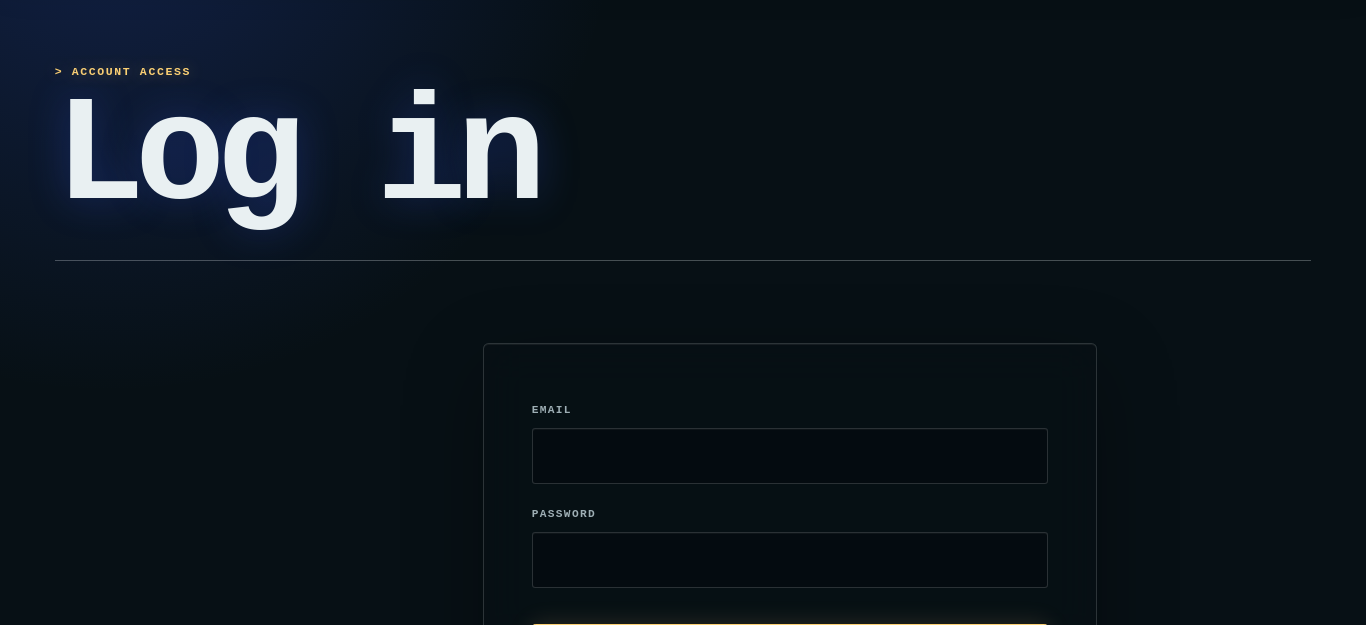
Test: App user and session state management › shows invalid credentials without treating a login 401 as session expiration
Type "john.doe@example.com" into the field labelled "Email" at (790, 456), box x1=532 y1=428 x2=1048 y2=484
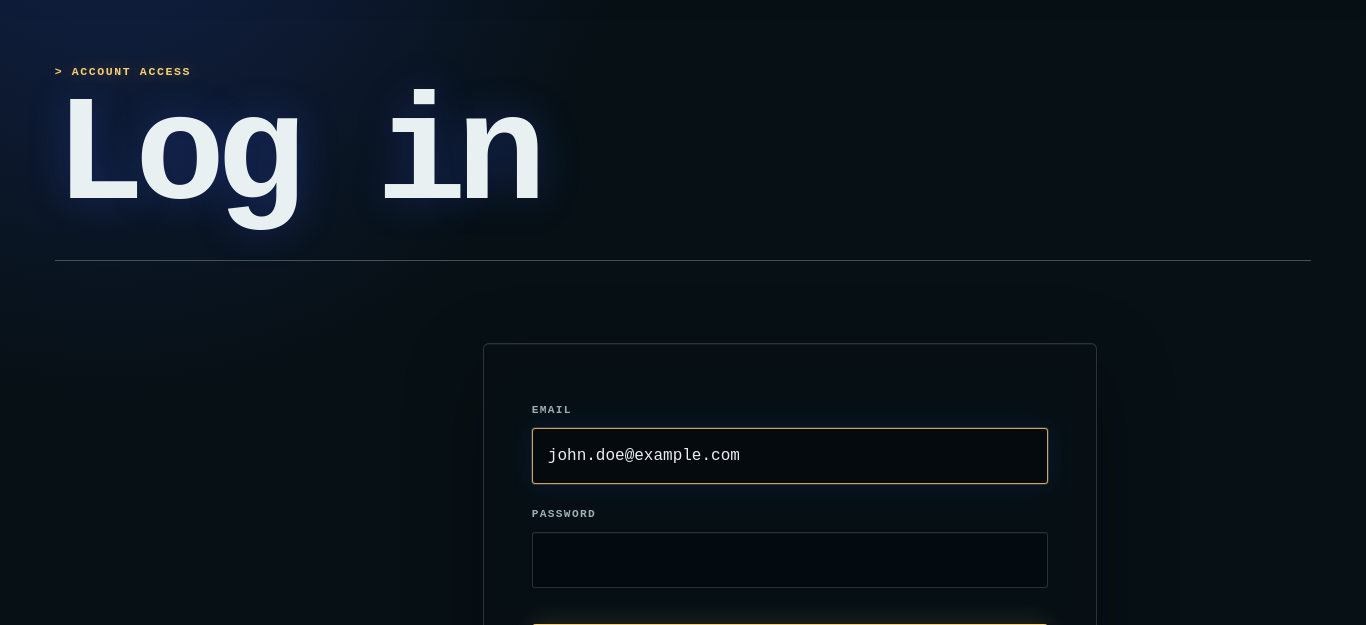
Type "incorrect-password" into the password field labelled "Password" at (790, 560), box x1=532 y1=532 x2=1048 y2=588
(page scrolled)
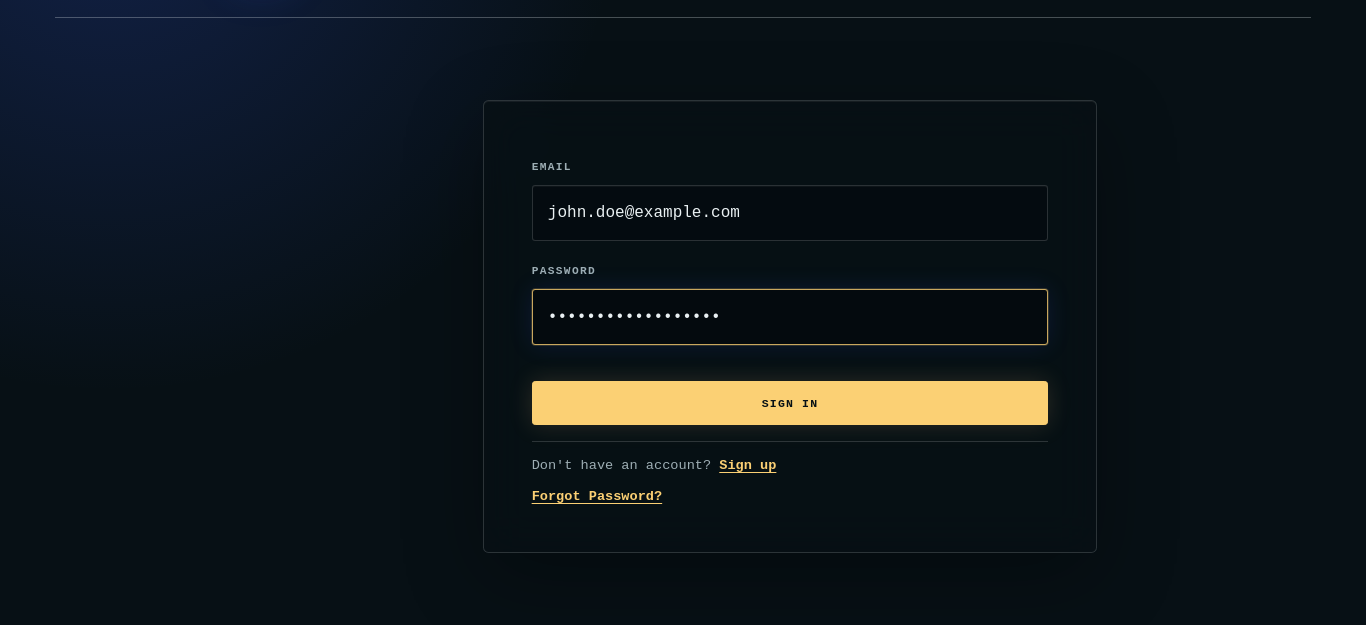
Click the button "Sign In" at (790, 403), box x1=532 y1=381 x2=1048 y2=425
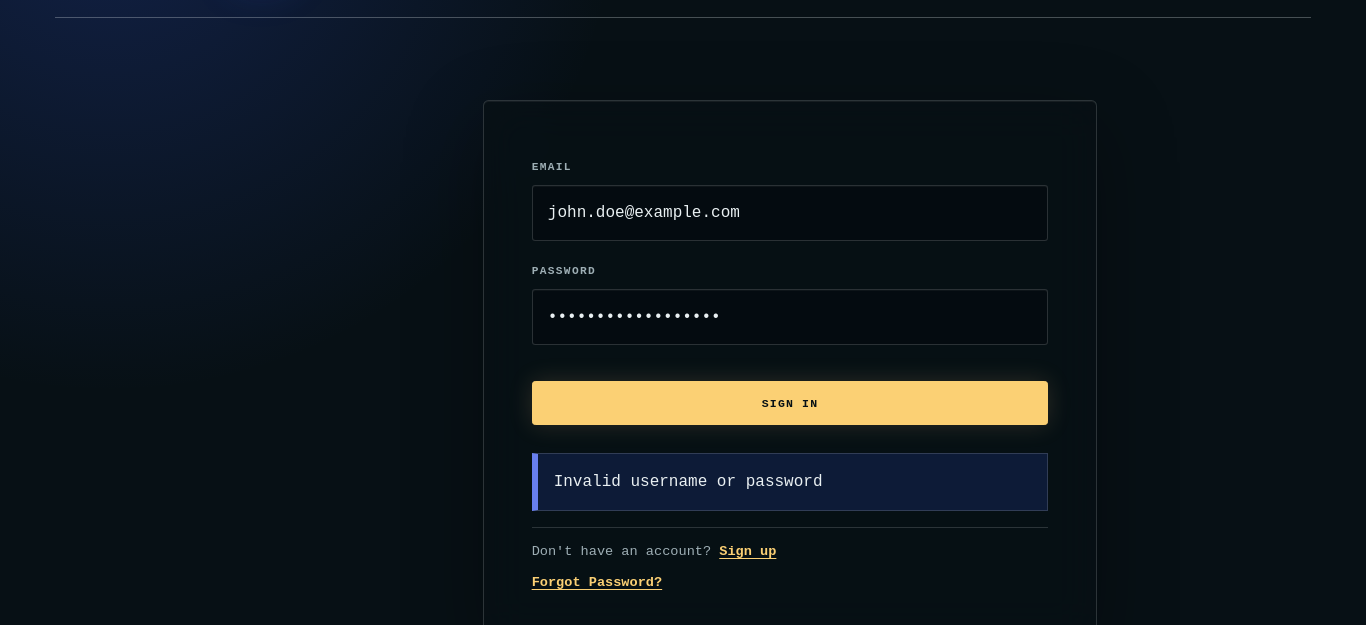
Now the message reads "Invalid username or password", box x1=554 y1=473 x2=822 y2=491
